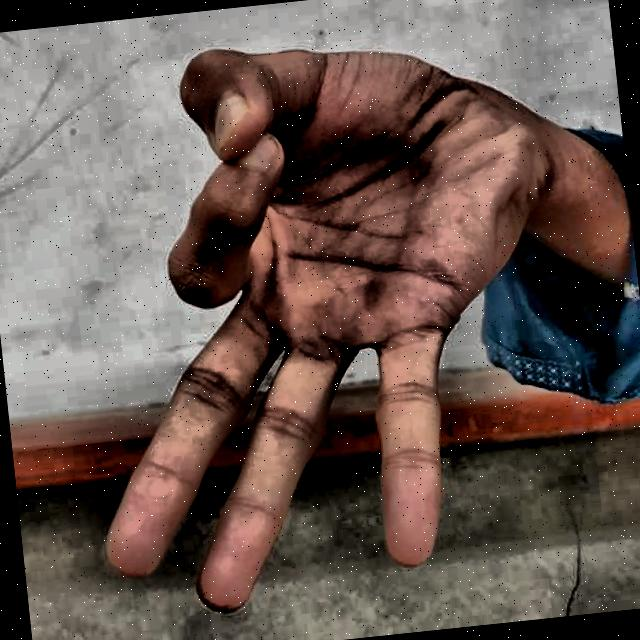Fa: (34, 7, 592, 640)
